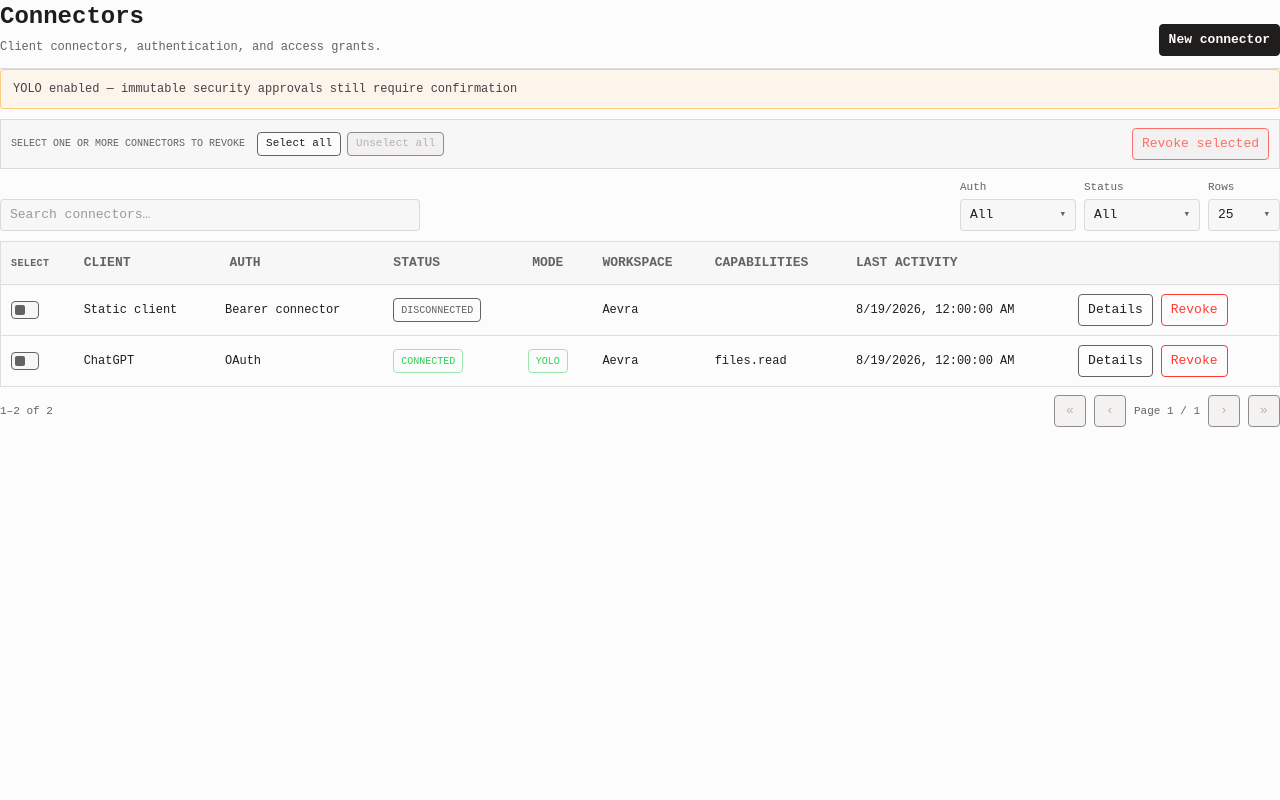
Test case: ConnectorsPage › opens new connector modal when clicking New connector
The image size is (1280, 800).
Click the button "New connector" at (1219, 40), box [1159,24,1279,56]
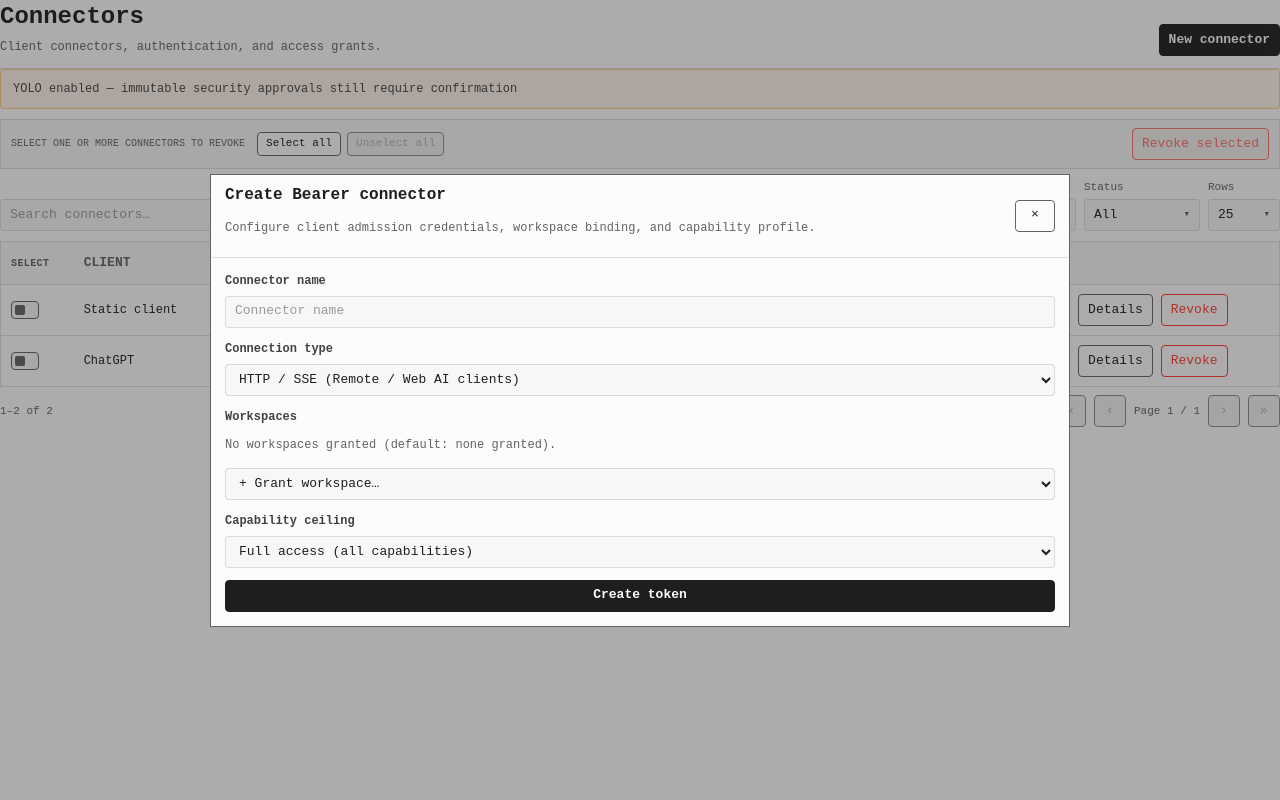
Now the dialog "Create Bearer connector" is shown, box [210,174,1070,626]
Click the button named "Close" at (1035, 216), box [1015,200,1055,232]
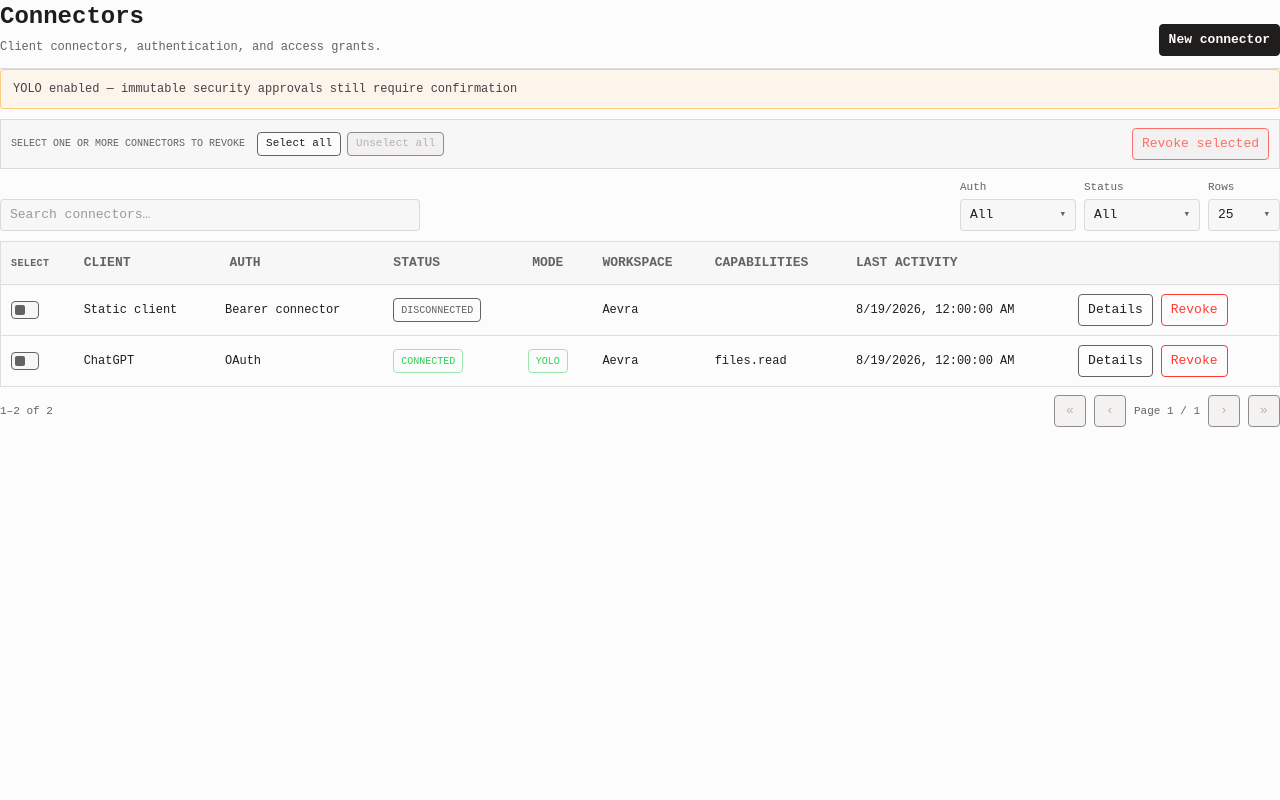
Now the heading "Create Bearer connector" is gone
